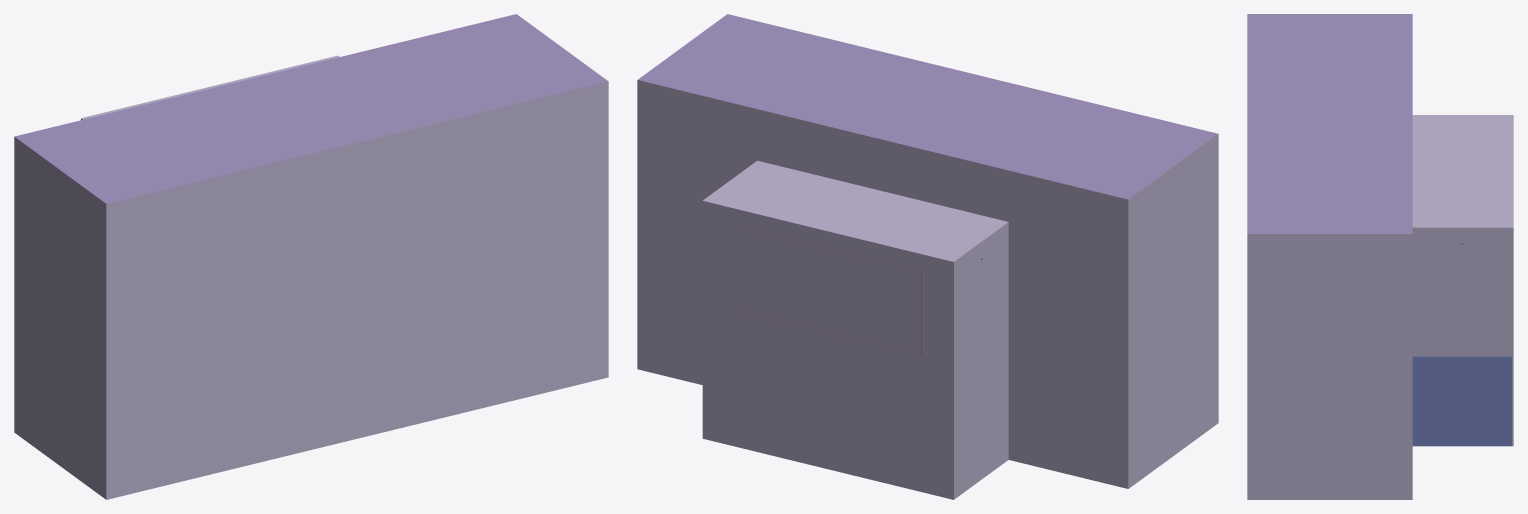
3 views of the same model, side by side, from view 1: azimuth 30°, elevation 25°; view 2: azimuth 150°, elevation 25°; view 3: azimuth 270°, elevation 25° (orthographic). The views are drawn at different scales.
Visible parts, largest first — view 1: table; view 2: table; view 3: table.
Part boxes in pixels (<box>): table: <box>14,14,608,499</box>; table: <box>637,14,1218,499</box>; table: <box>1247,14,1513,499</box>.
Bounding box in the file's own units: 10.51 × 5.92 × 5.37.
Materials: 1 (1 with a texture image).
